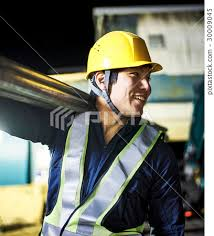safe person: (84, 31, 170, 236)
